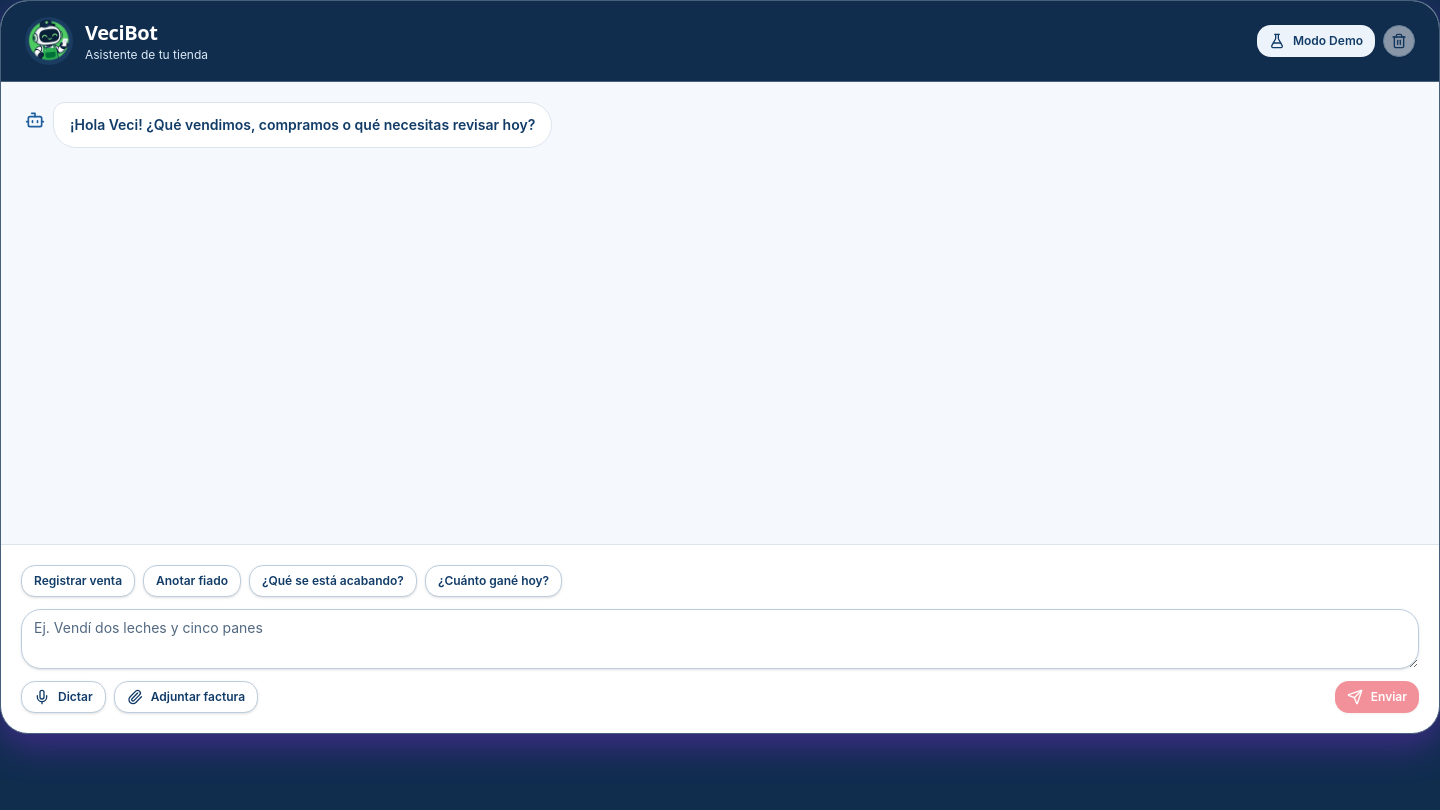
it: muestra el cliente del fiado y permite cancelar sin guardar
This screenshot has width=1440, height=810.
What coordinates should you click on to do the following:
click the button "Modo Demo"
I would click on:
 (1316, 41)
Its box is [1257, 25, 1375, 57].
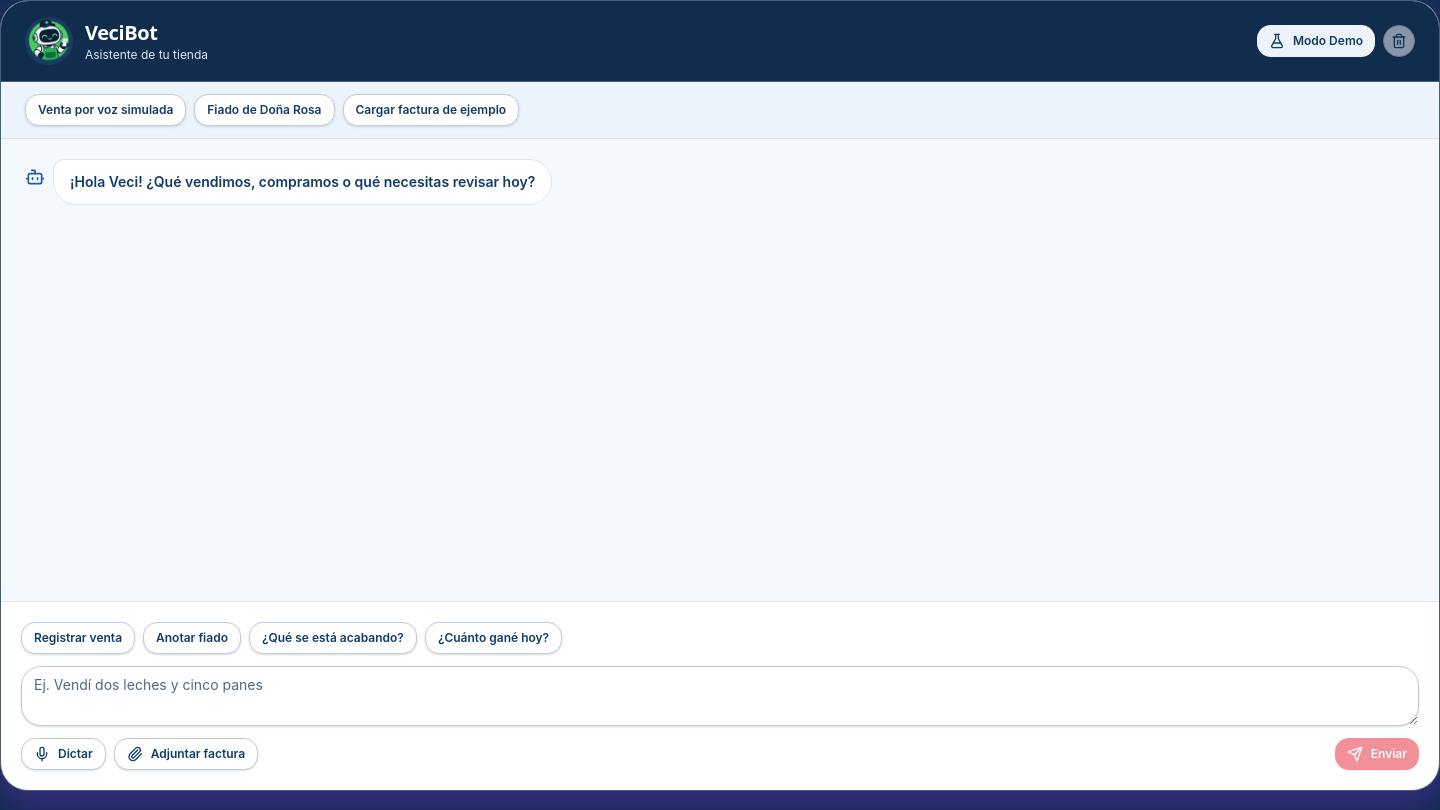
What coordinates should you click on to do the following:
click the button "Fiado de Doña Rosa"
I would click on:
 (264, 110)
Its box is [194, 94, 334, 126].
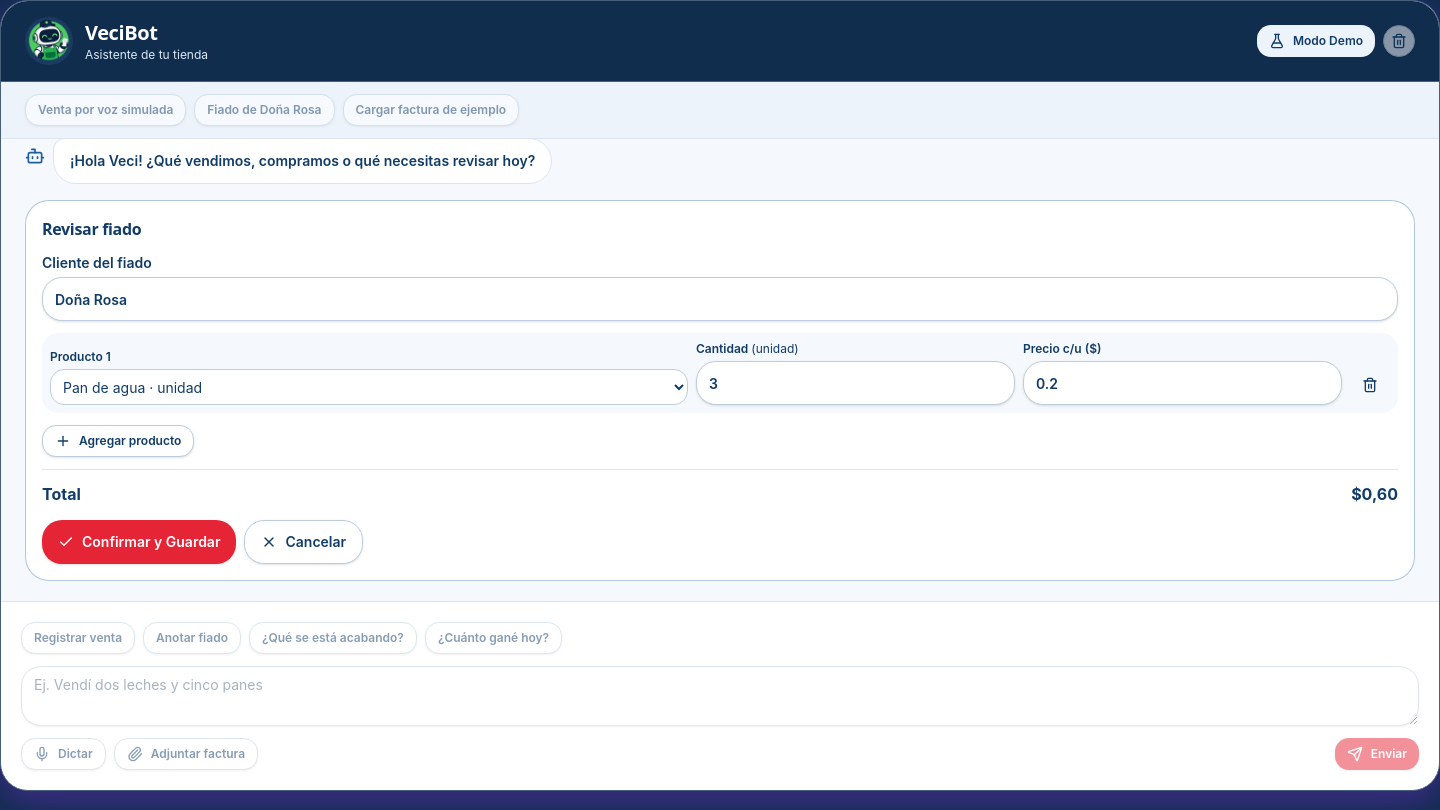
Expected: the field labelled "Cliente del fiado" holds "Doña Rosa", [42, 277, 1398, 321]
What coordinates should you click on to do the following:
click the button "Cancelar"
I would click on:
 (304, 542)
Its box is [244, 520, 363, 564].
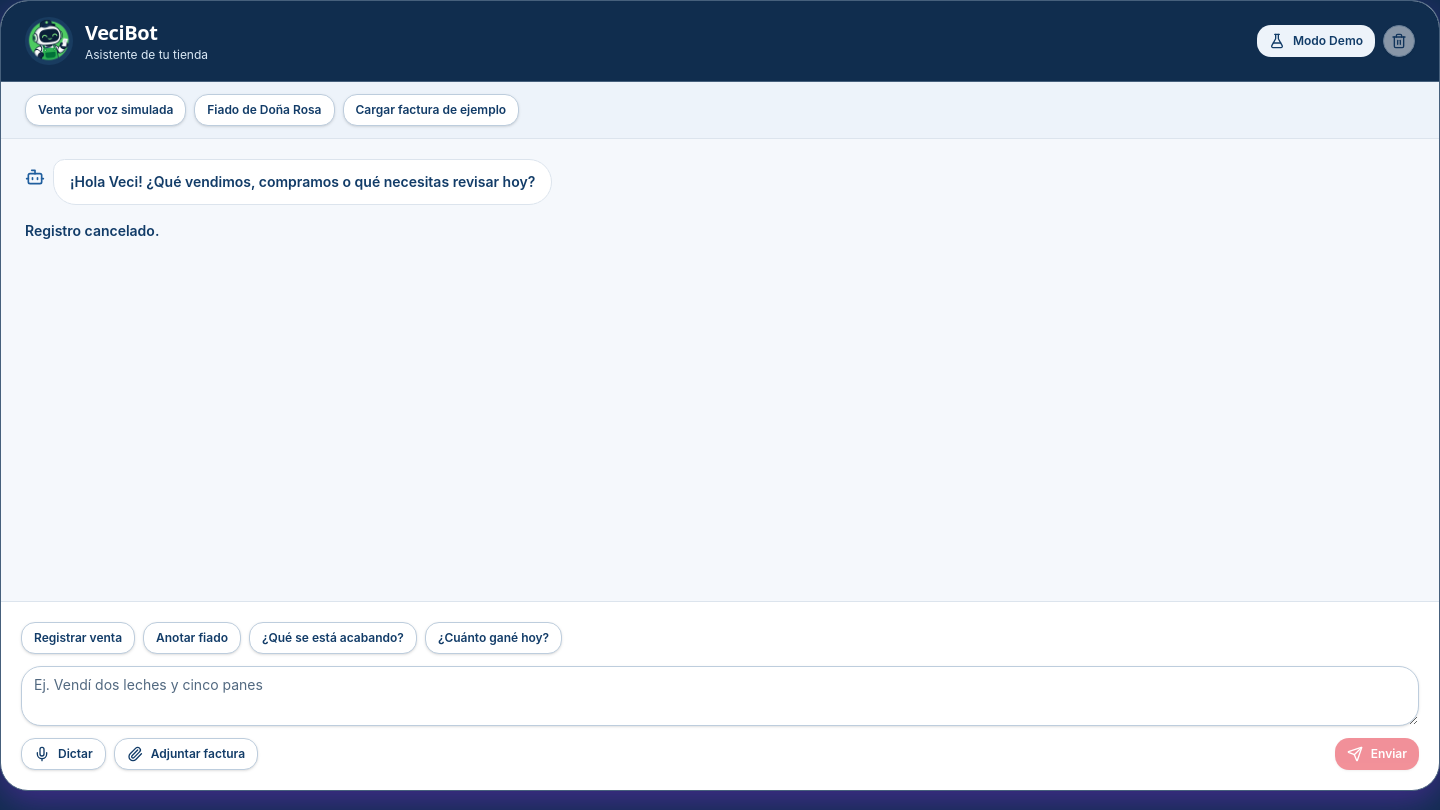
Expected: the text "Registro cancelado." is shown, [25, 222, 159, 239]
